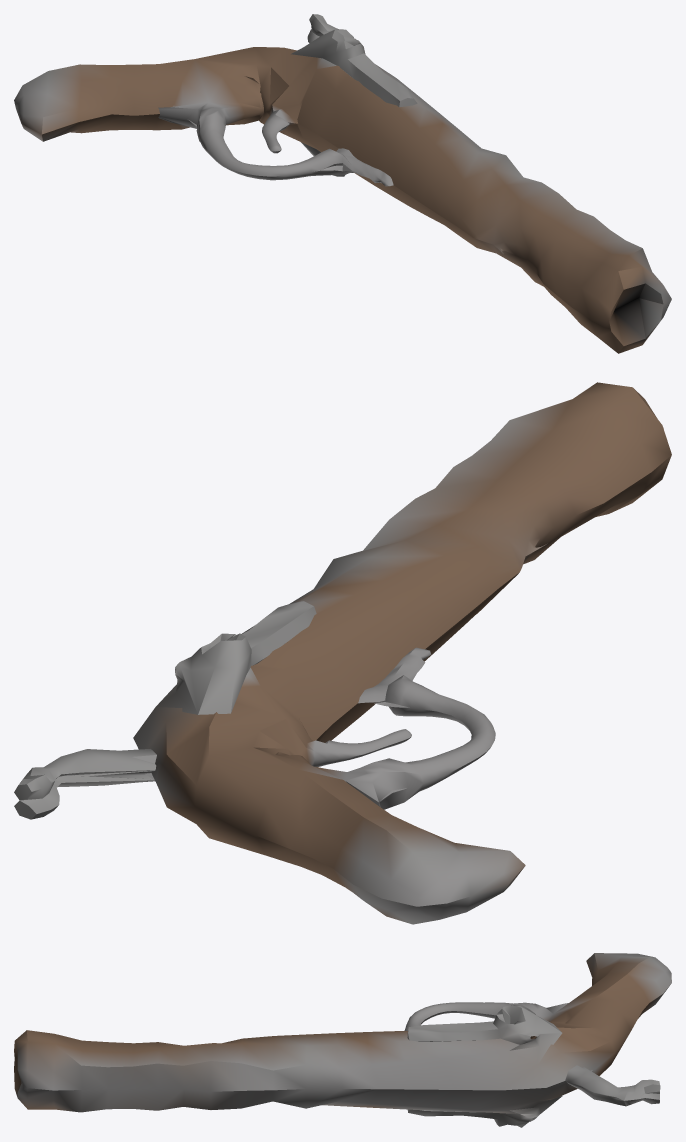
File: 1pistola.glb
3 renders of one model, top to bottom at view 1: azimuth 30°, elevation 25°; view 2: azimuth 150°, elevation 25°; view 3: azimuth 270°, elevation 25°, orthographic. The views are drawn at different scales.
Parts seen in each view (by area): view 1: Pistola_pirata_Pistola_pirata_0; view 2: Pistola_pirata_Pistola_pirata_0; view 3: Pistola_pirata_Pistola_pirata_0.
Part boxes in pixels (x1=…): Pistola_pirata_Pistola_pirata_0: x1=14, y1=14, x2=671, y2=353; Pistola_pirata_Pistola_pirata_0: x1=14, y1=382, x2=671, y2=924; Pistola_pirata_Pistola_pirata_0: x1=14, y1=953, x2=671, y2=1127.
Size of the model in its own units: 0.1178 by 0.0467 by 0.2313.
